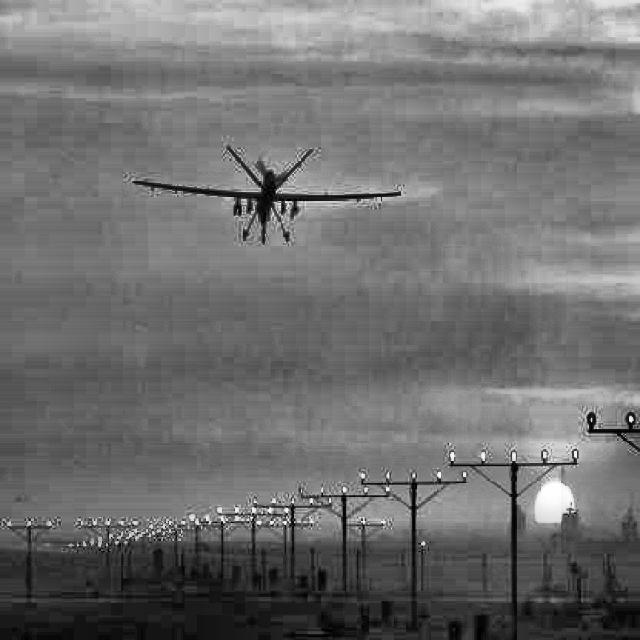MQ9: (132, 145, 402, 244)
